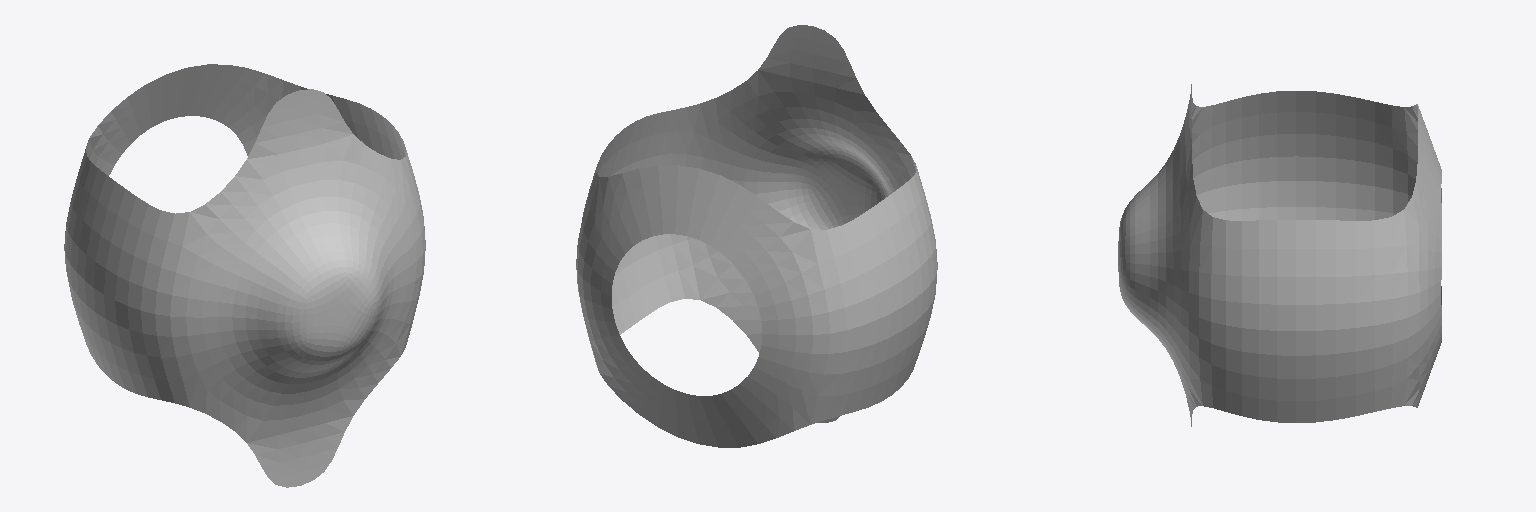
File: lampB-sub2.obj
3 renders of one model, left to right at view 1: azimuth 30°, elevation 25°; view 2: azimuth 150°, elevation 25°; view 3: azimuth 270°, elevation 25°, orthographic.
Parts seen in each view (by area): view 1: Plane; view 2: Plane; view 3: Plane.
Part boxes in pixels (x1,y1,x2,y2): Plane: (64,64,425,487); Plane: (576,25,937,447); Plane: (1118,84,1441,426).
Bounding box in the file's own units: 4.41 × 5.41 × 4.